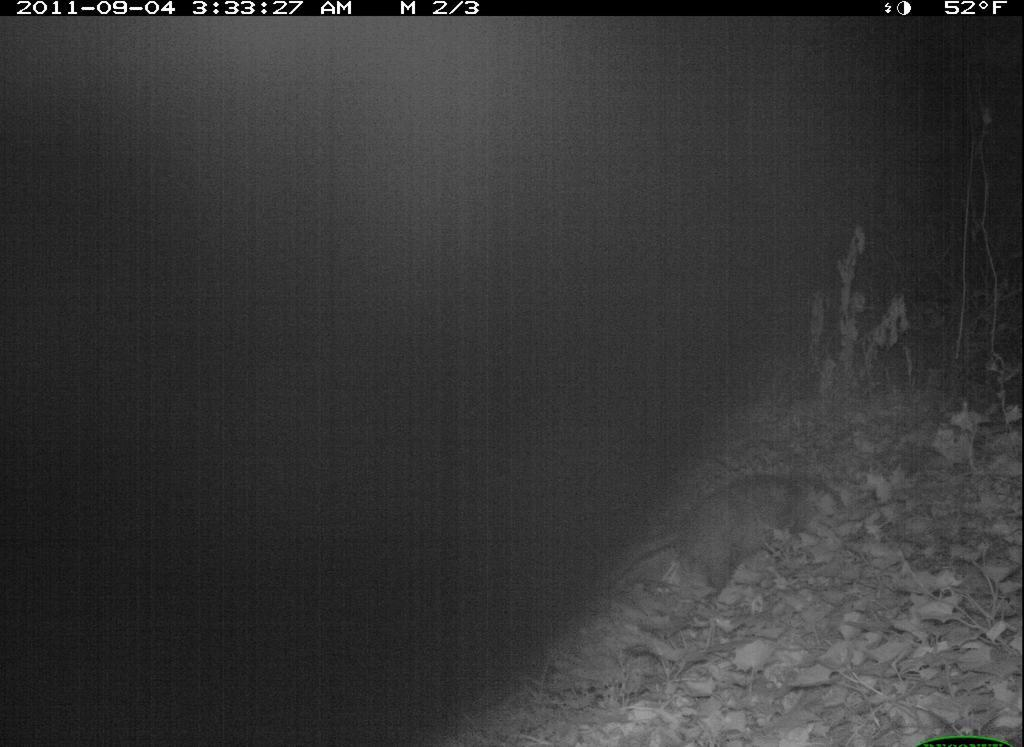opossum: (599, 461, 825, 604)
